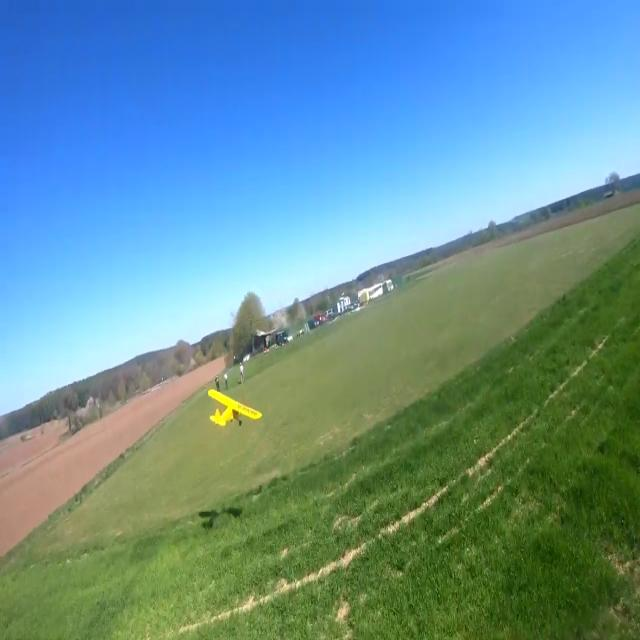iha: (207, 389, 261, 431)
